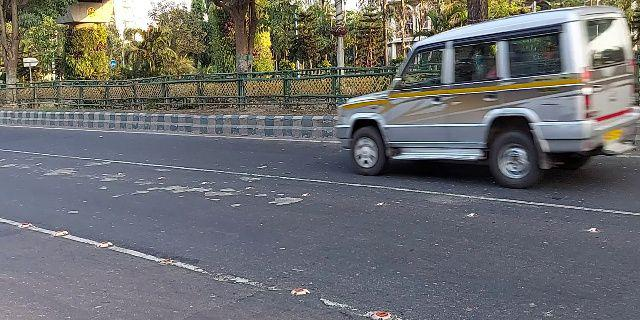Car: (331, 4, 639, 193)
